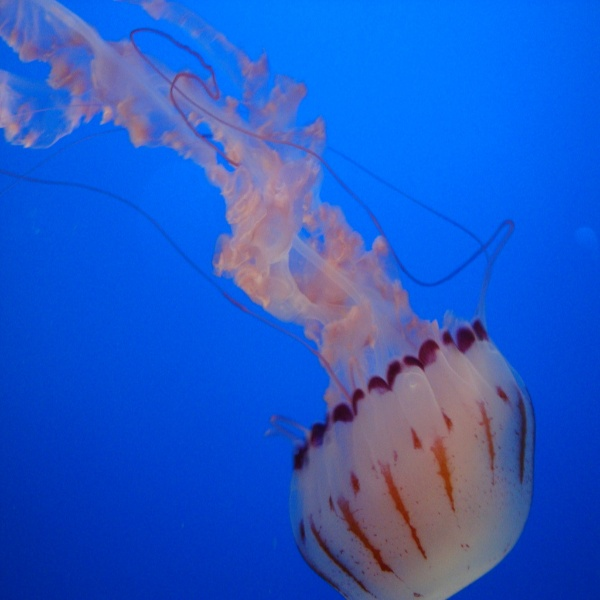Jellyfish: (0, 0, 536, 599)
